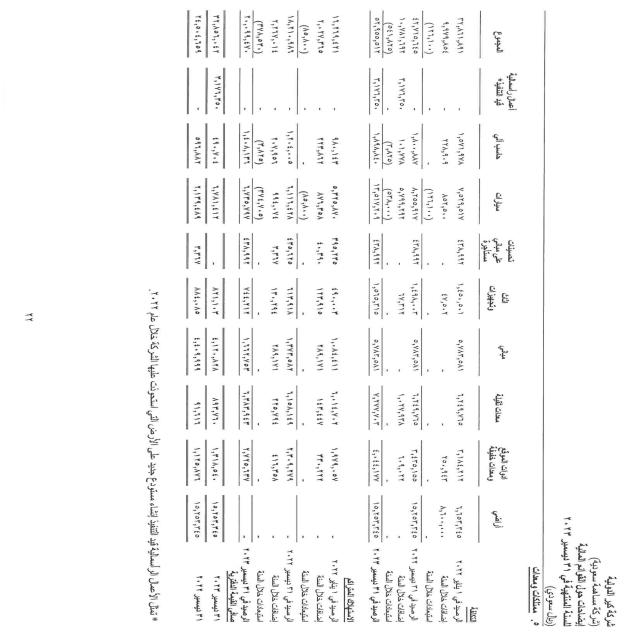notes: (574, 540, 590, 630)
table: (181, 3, 525, 534)
